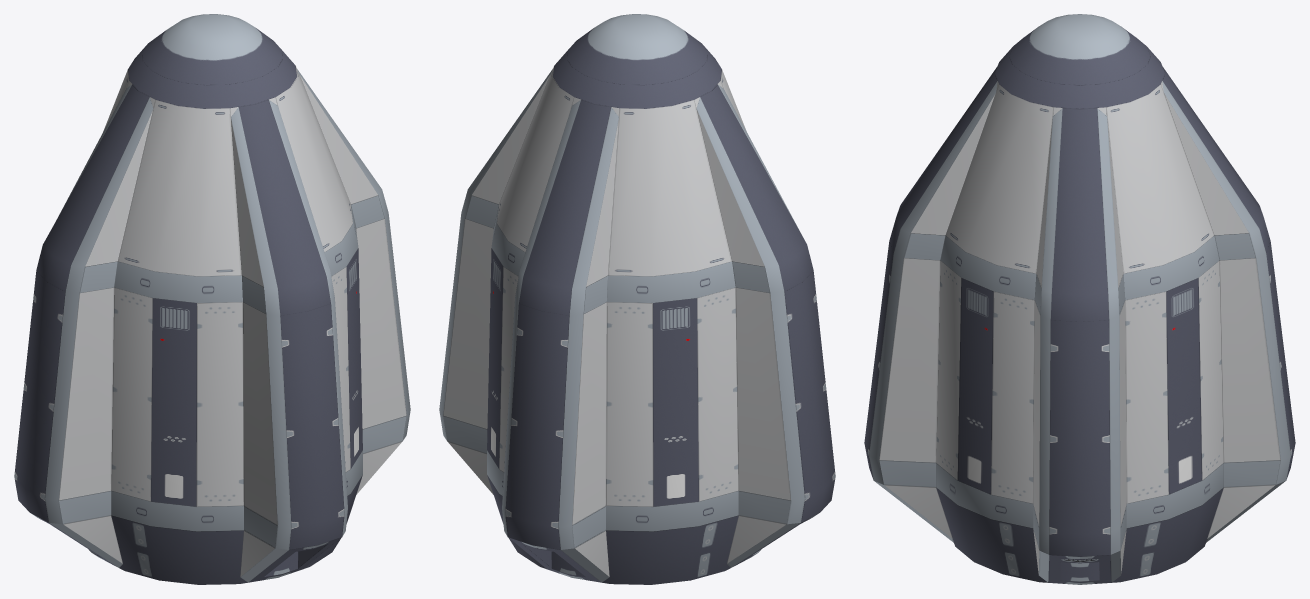
The model's file is Space_X_Top_A.FBX.
3 renders of one model, left to right at view 1: azimuth 30°, elevation 25°; view 2: azimuth 150°, elevation 25°; view 3: azimuth 270°, elevation 25°, orthographic.
Visible parts, largest first — view 1: Wings, Space_X_Top_A; view 2: Wings, Space_X_Top_A; view 3: Space_X_Top_A, Wings.
Boxes of the visible parts, bbox=[...] form: Wings: bbox=[14, 69, 410, 582]; Space_X_Top_A: bbox=[103, 14, 362, 584]; Wings: bbox=[439, 69, 835, 582]; Space_X_Top_A: bbox=[487, 14, 746, 584]; Space_X_Top_A: bbox=[936, 14, 1223, 582]; Wings: bbox=[864, 67, 1295, 584].
Bounding box in the file's own units: 9.48 × 12.25 × 9.48.
